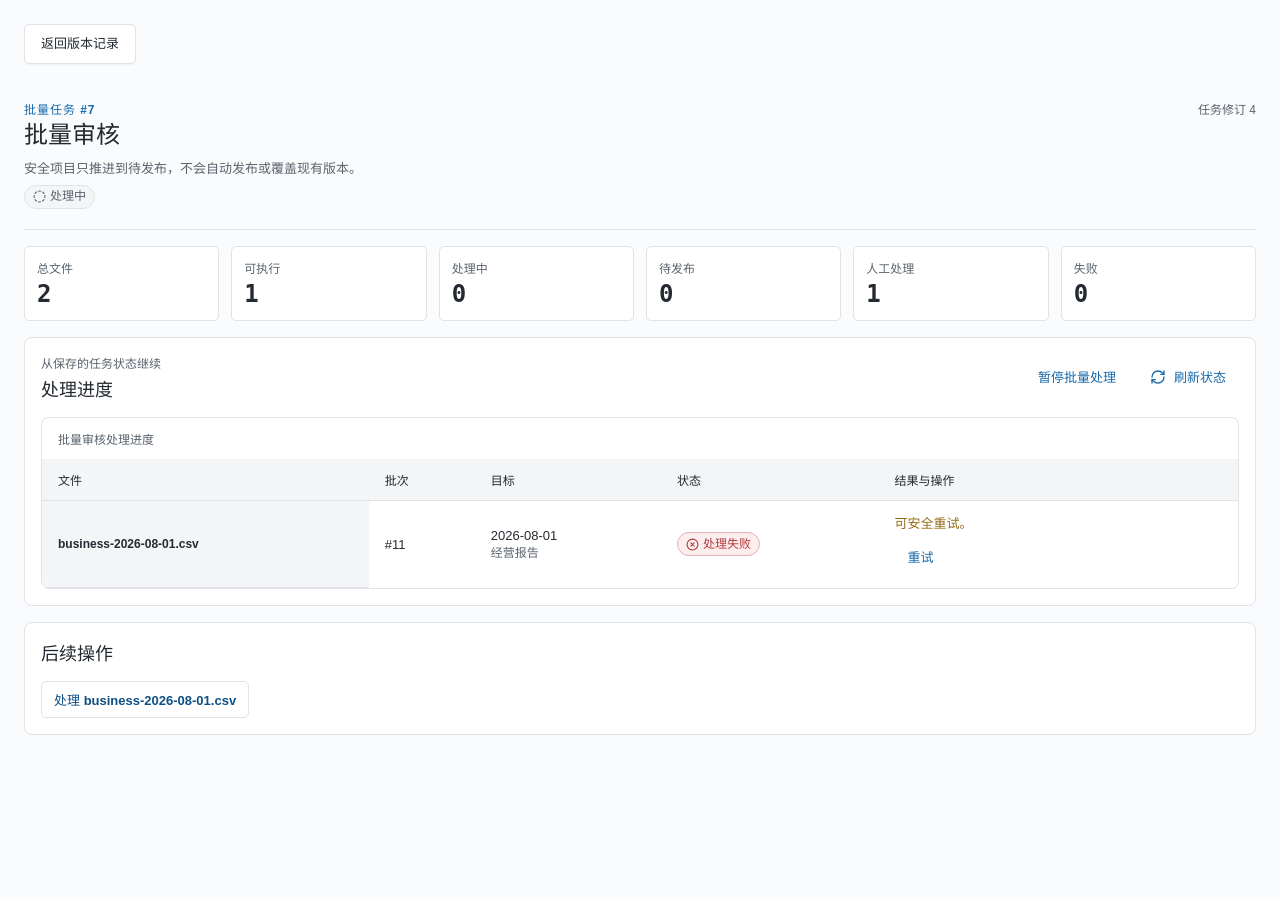
BatchReviewPage › restarts a retry without a status change after draining the previous pass (pending=false)
The width and height of the screenshot is (1280, 900).
Click the button "重试".
click(921, 558)  # box [895,540,947,576]
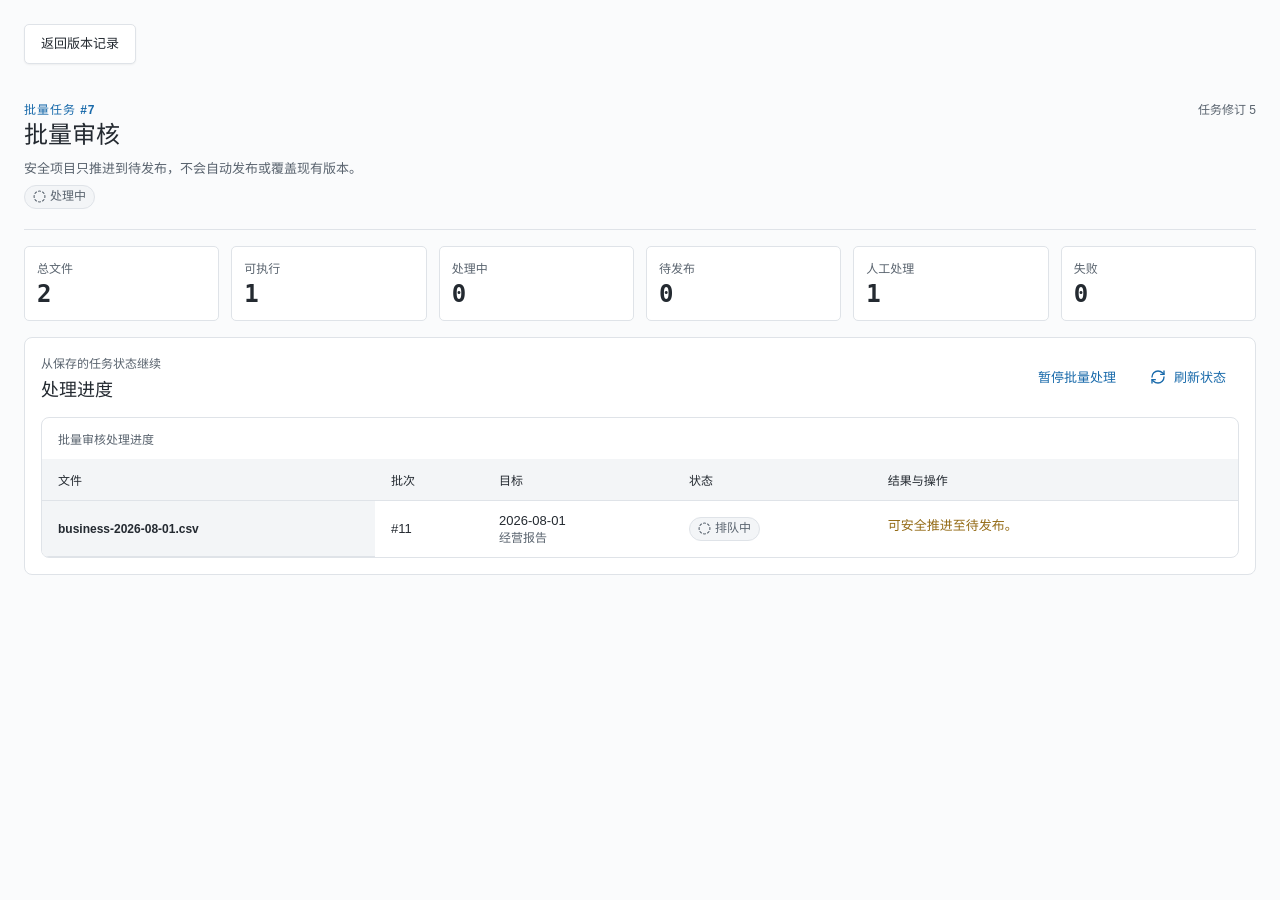
Check: the text "重试" is gone
